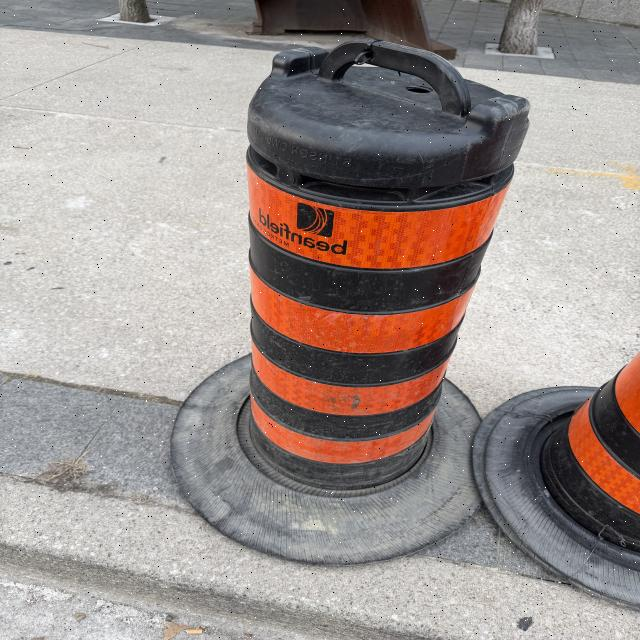Teraffic Barrel: (172, 40, 529, 562), (474, 354, 640, 608)
